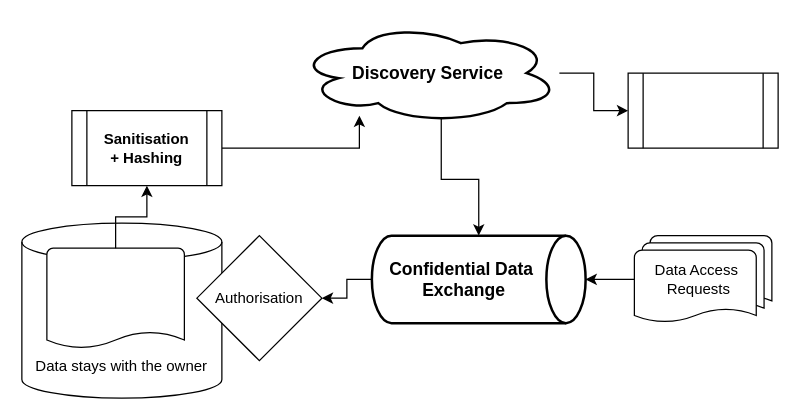
Some shapes in this 800 by 420 pixel diagram are drawn without their labels. The shapes that lost their labels are listed below. From the top down, each one's centre as x and y in pixels, then its label:
At [702,110]: "Chain of Custody Verification".
At [115,297]: "Relevant Supply Chain Event (e.g. shipping)".
